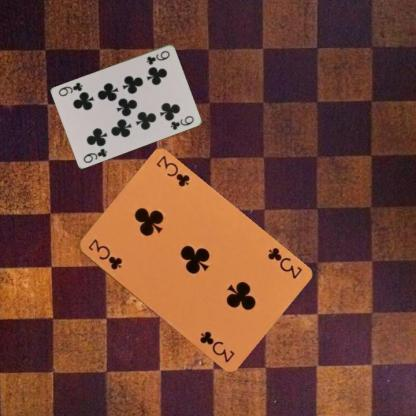3c: (85, 236, 124, 272), (264, 245, 302, 280)
9c: (81, 146, 109, 164), (144, 48, 171, 66)
